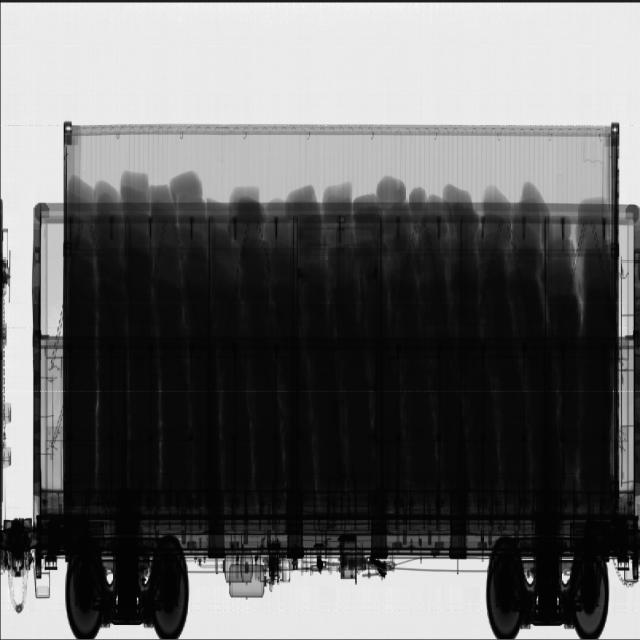textile: (72, 121, 602, 476)
